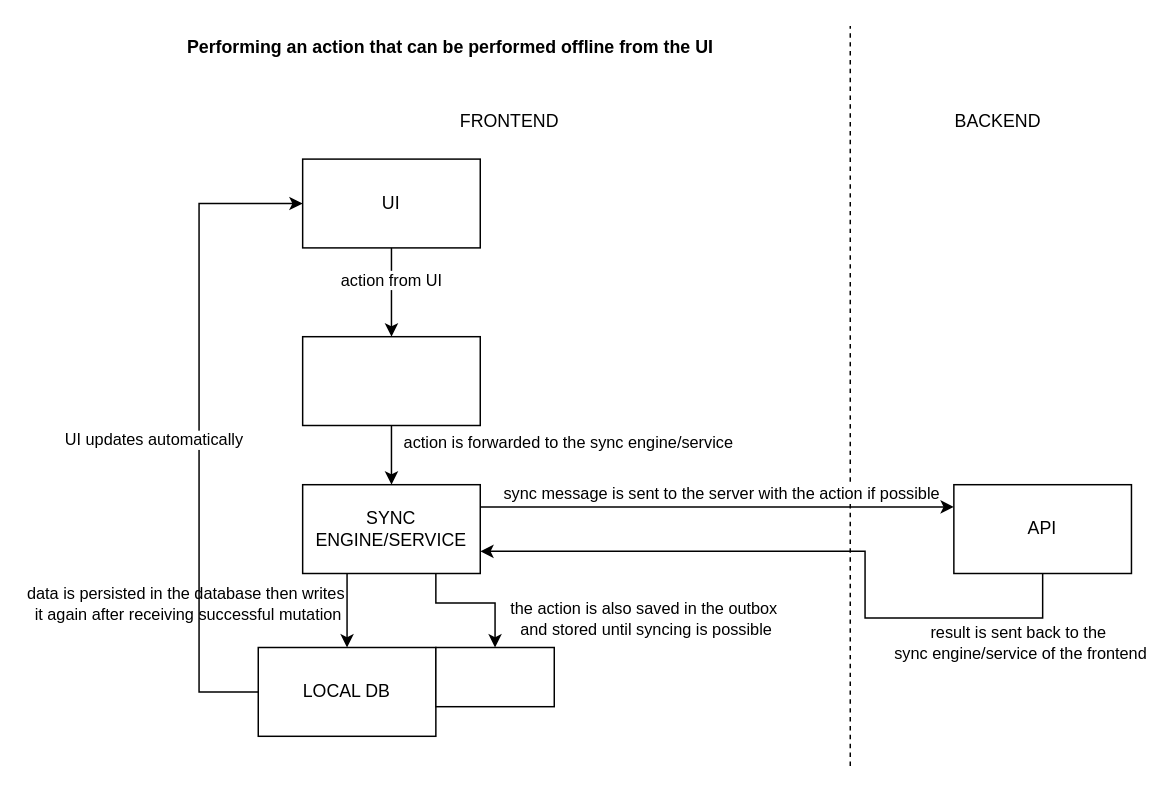
Some shapes in this 1171 by 793 pixel diagram are drawn without their labels. Each missing label, with the centre of its shape:
OUTBOX (in local db): the point at 494,676
Repository/use case: the point at 390,380
